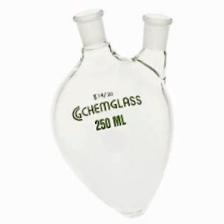Pear shaped flask: (43, 15, 173, 218)
